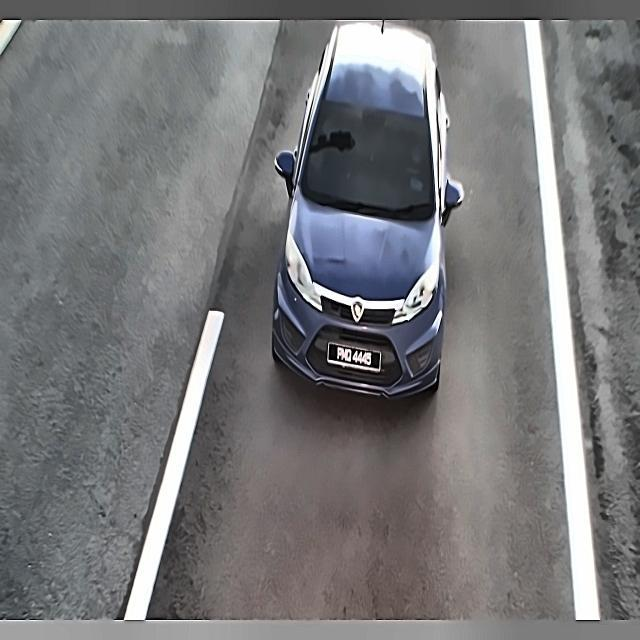car: (327, 341, 383, 379)
